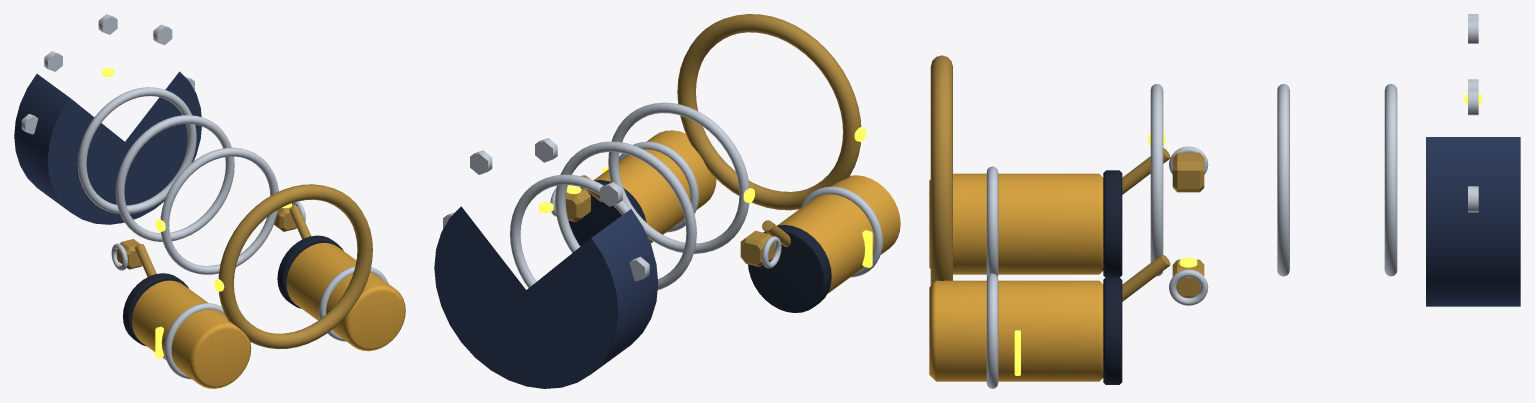
Rendered from tower_nova_damage_s6.glb.
3 views of the same model, side by side, from view 1: azimuth 30°, elevation 25°; view 2: azimuth 150°, elevation 25°; view 3: azimuth 270°, elevation 25° (orthographic). The views are drawn at different scales.
Parts seen in each view (by area): view 1: nova_brake_shroud, nova_napalm_can_r, nova_pressure_ring, nova_napalm_can_l, nova_tube_band1.02, nova_tube_band1.36, nova_tube_band0.62, nova_brake_shroud_bolts, nova_napalm_cap_l, nova_napalm_cap_r, nova_napalm_strap_r, nova_napalm_strap_l (+4 smaller); view 2: nova_brake_shroud, nova_pressure_ring, nova_napalm_can_r, nova_napalm_can_l, nova_napalm_cap_r, nova_tube_band0.62, nova_tube_band1.02, nova_tube_band1.36, nova_brake_shroud_bolts, nova_napalm_cap_l, nova_napalm_strap_r, nova_napalm_strap_l (+3 smaller); view 3: nova_napalm_can_l, nova_brake_shroud, nova_napalm_can_r, nova_pressure_ring, nova_tube_band1.36, nova_tube_band1.02, nova_tube_band0.62, nova_napalm_cap_l, nova_napalm_cap_r, nova_napalm_strap_l, nova_napalm_strap_r, nova_napalm_valve_r (+5 smaller).
Boxes of the visible parts, left/top/right/bottom form: nova_brake_shroud: left=14, top=71, right=201, bottom=224; nova_napalm_can_r: left=132, top=280, right=251, bottom=388; nova_pressure_ring: left=218, top=184, right=372, bottom=349; nova_napalm_can_l: left=286, top=243, right=405, bottom=351; nova_tube_band1.02: left=115, top=115, right=234, bottom=241; nova_tube_band1.36: left=77, top=87, right=196, bottom=213; nova_tube_band0.62: left=160, top=147, right=278, bottom=274; nova_brake_shroud_bolts: left=21, top=14, right=194, bottom=134; nova_napalm_cap_l: left=277, top=235, right=343, bottom=308; nova_napalm_cap_r: left=123, top=273, right=188, bottom=346; nova_napalm_strap_r: left=164, top=303, right=224, bottom=379; nova_napalm_strap_l: left=319, top=266, right=388, bottom=341; nova_brake_shroud: left=434, top=206, right=658, bottom=388; nova_pressure_ring: left=677, top=14, right=861, bottom=210; nova_napalm_can_r: left=777, top=175, right=900, bottom=293; nova_napalm_can_l: left=593, top=130, right=716, bottom=243; nova_napalm_cap_r: left=748, top=225, right=831, bottom=312; nova_tube_band0.62: left=608, top=102, right=749, bottom=253; nova_tube_band1.02: left=555, top=141, right=696, bottom=289; nova_tube_band1.36: left=510, top=174, right=630, bottom=287; nova_brake_shroud_bolts: left=443, top=138, right=649, bottom=281; nova_napalm_cap_l: left=568, top=180, right=646, bottom=246; nova_napalm_strap_r: left=800, top=186, right=882, bottom=277; nova_napalm_strap_l: left=619, top=141, right=698, bottom=232; nova_napalm_can_l: left=929, top=280, right=1103, bottom=381; nova_brake_shroud: left=1426, top=137, right=1520, bottom=306; nova_napalm_can_r: left=929, top=173, right=1103, bottom=274; nova_pressure_ring: left=930, top=55, right=952, bottom=285; nova_tube_band1.36: left=1384, top=84, right=1397, bottom=276; nova_tube_band1.02: left=1277, top=84, right=1289, bottom=276; nova_tube_band0.62: left=1150, top=84, right=1163, bottom=276; nova_napalm_cap_l: left=1103, top=277, right=1122, bottom=384; nova_napalm_cap_r: left=1103, top=170, right=1122, bottom=277; nova_napalm_strap_l: left=986, top=273, right=998, bottom=388; nova_napalm_strap_r: left=986, top=166, right=998, bottom=277; nova_napalm_valve_r: left=1172, top=152, right=1204, bottom=192.
Bounding box in the file's own units: 1.17 × 1.09 × 1.87.
